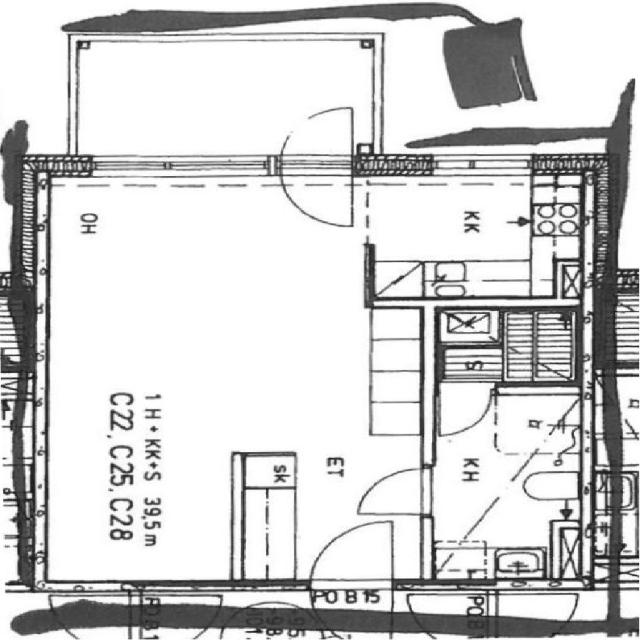door: (306, 516, 398, 602), (275, 102, 359, 178), (352, 461, 439, 521), (278, 166, 358, 231), (432, 378, 499, 439)
window: (76, 148, 277, 188), (424, 144, 546, 180)
zone: (422, 381, 590, 584), (360, 169, 587, 302)
